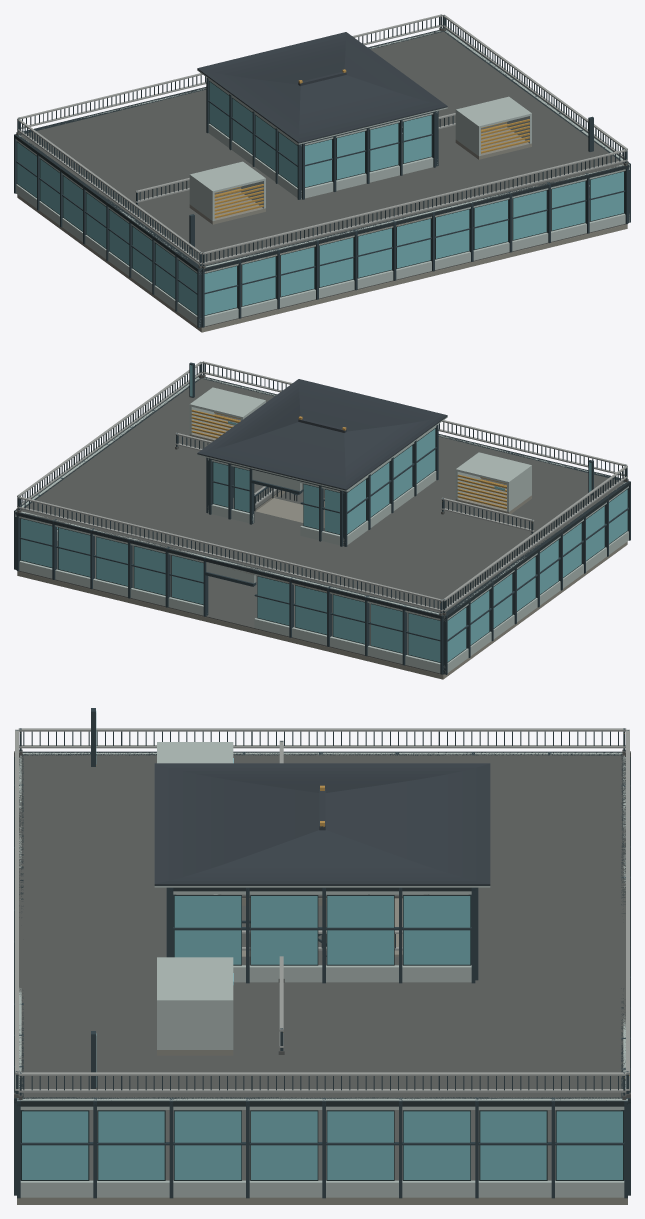
The picture shows the model from 3 angles, top to bottom: view 1: azimuth 30°, elevation 25°; view 2: azimuth 150°, elevation 25°; view 3: azimuth 270°, elevation 25°; orthographic projection. The views are drawn at different scales.
Visible parts, largest first — view 1: 金属框、密封环与独立幕墙玻璃 (×6), 石铺面与混凝土承板 (×2), 连续瓦檐与金属承板、钢梁, 石脚与连续金属护栏 (×5), 机电外壳、开口百叶与独立未绑定光面 (×2); view 2: 石铺面与混凝土承板 (×2), 金属框、密封环与独立幕墙玻璃 (×6), 连续瓦檐与金属承板、钢梁, 石脚与连续金属护栏 (×5), 机电外壳、开口百叶与独立未绑定光面 (×2), 双跑连续梁与实体踏步; view 3: 石铺面与混凝土承板 (×2), 金属框、密封环与独立幕墙玻璃 (×5), 连续瓦檐与金属承板、钢梁, 石脚与连续金属护栏 (×4), 机电外壳、开口百叶与独立未绑定光面 (×2).
Boxes of the visible parts, <box> form: 金属框、密封环与独立幕墙玻璃 (×6): <box>14,29,630,327</box>; 石铺面与混凝土承板 (×2): <box>17,31,627,332</box>; 连续瓦檐与金属承板、钢梁: <box>197,32,447,144</box>; 石脚与连续金属护栏 (×5): <box>16,14,628,268</box>; 机电外壳、开口百叶与独立未绑定光面 (×2): <box>189,96,531,224</box>; 石铺面与混凝土承板 (×2): <box>17,378,627,679</box>; 金属框、密封环与独立幕墙玻璃 (×6): <box>14,376,630,674</box>; 连续瓦檐与金属承板、钢梁: <box>197,379,447,491</box>; 石脚与连续金属护栏 (×5): <box>16,361,628,615</box>; 机电外壳、开口百叶与独立未绑定光面 (×2): <box>189,387,531,514</box>; 双跑连续梁与实体踏步: <box>254,486,324,527</box>; 石铺面与混凝土承板 (×2): <box>17,754,627,1204</box>; 金属框、密封环与独立幕墙玻璃 (×5): <box>14,751,630,1198</box>; 连续瓦檐与金属承板、钢梁: <box>154,763,490,887</box>; 石脚与连续金属护栏 (×4): <box>14,728,630,1099</box>; 机电外壳、开口百叶与独立未绑定光面 (×2): <box>157,742,233,1055</box>.
Bounding box in the file's own units: 32.52 × 9.9 × 24.24.
15 materials, 15 textured.
